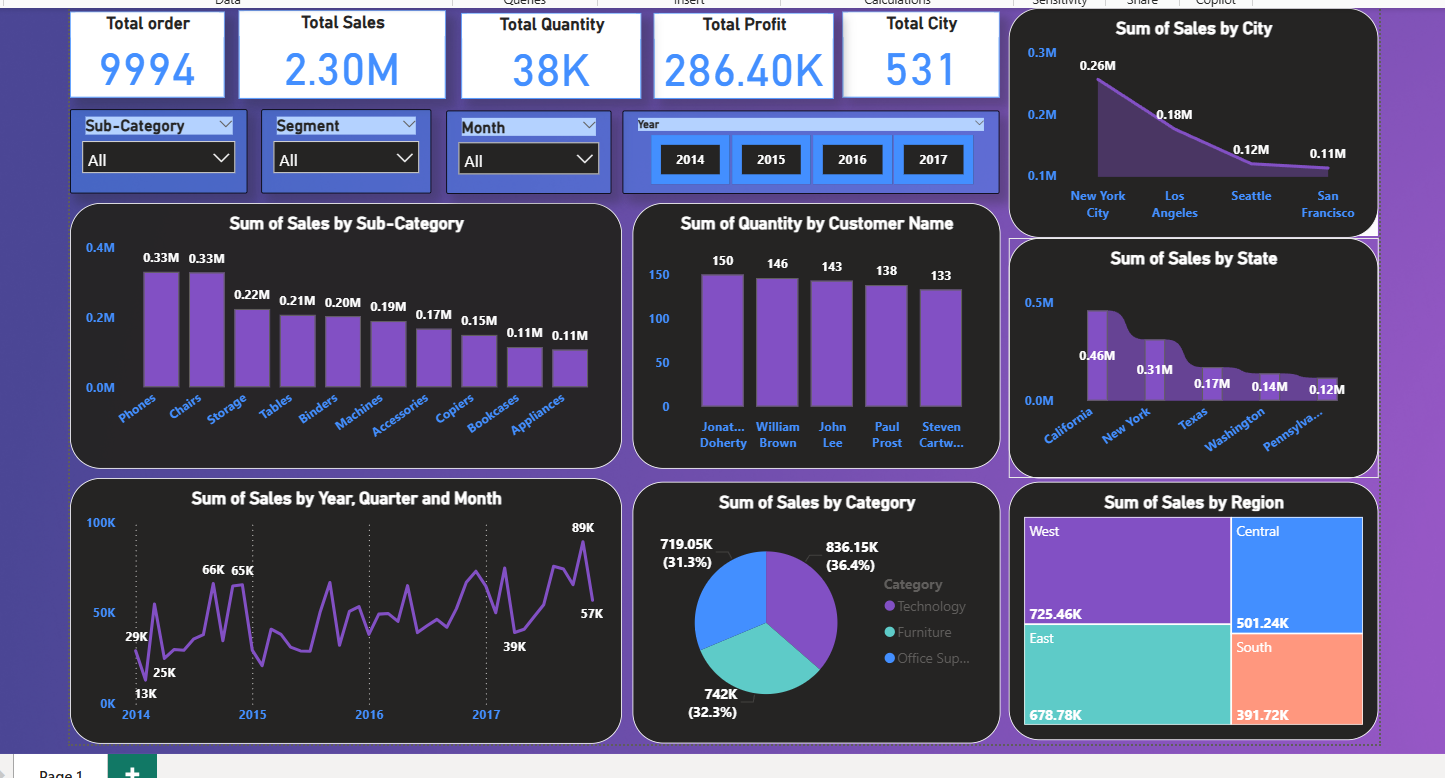

The page's visual inventory and layout, read from the dashboard file:
{"tool":"powerbi","page":{"name":"Page 1","canvas":[1280,720],"ordinal":0},"visuals":[{"type":"card","title":"Total order","fields":{"Values":["CountNonNull(Superstore_data(1).Order ID)"]},"box":[0,3.8,151.2,83.8],"z":0},{"type":"card","title":"Total City","fields":{"Values":["Count(Superstore_data(1).City)"]},"box":[756.2,3.8,153.8,83.8],"z":1000},{"type":"card","title":"Total Profit","fields":{"Values":["Sum(Superstore_data(1).Profit)"]},"box":[571.2,5,176.2,83.8],"z":2000},{"type":"card","title":"Total Sales","fields":{"Values":["Sum(Superstore_data(1).Sales)"]},"box":[165,2.5,202.5,86.2],"z":3000},{"type":"card","title":"Total Quantity","fields":{"Values":["Sum(Superstore_data(1).Quantity)"]},"box":[382.5,5,176.2,83.8],"z":4000},{"type":"slicer","fields":{"Values":["Superstore_data(1).Sub-Category"]},"box":[0,98.8,173.8,82.5],"z":5000},{"type":"slicer","fields":{"Values":["Superstore_data(1).Segment"]},"box":[187.5,98.8,166.2,82.5],"z":6000},{"type":"clusteredColumnChart","fields":{"Category":["Superstore_data(1).Sub-Category"],"Y":["Sum(Superstore_data(1).Sales)"]},"box":[0,191.2,540,260],"z":7000},{"type":"lineChart","fields":{"Category":["Superstore_data(1).Order Date.Variation.Date Hierarchy.Year","Superstore_data(1).Order Date.Variation.Date Hierarchy.Quarter","Superstore_data(1).Order Date.Variation.Date Hierarchy.Month","Superstore_data(1).Order Date.Variation.Date Hierarchy.Day"],"Y":["Sum(Superstore_data(1).Sales)"]},"box":[0,460,540,260],"z":8000},{"type":"slicer","fields":{"Values":["Superstore_data(1).Order Date.Variation.Date Hierarchy.Month"]},"box":[367.5,100,161.2,81.2],"z":9000},{"type":"slicer","fields":{"Values":["Superstore_data(1).Order Date.Variation.Date Hierarchy.Year"]},"box":[540,100,368.8,81.2],"z":10000},{"type":"pieChart","fields":{"Category":["Superstore_data(1).Category"],"Y":["Sum(Superstore_data(1).Sales)"]},"box":[550,463.8,360,256.2],"z":11000},{"type":"treemap","fields":{"Group":["Superstore_data(1).Region"],"Values":["Sum(Superstore_data(1).Sales)"]},"box":[918.8,463.8,361.2,252.5],"z":12000},{"type":"clusteredColumnChart","fields":{"Category":["Superstore_data(1).Customer Name"],"Y":["Sum(Superstore_data(1).Quantity)"]},"box":[550,191.2,360,260],"z":13000},{"type":"ribbonChart","fields":{"Category":["Superstore_data(1).State"],"Y":["Sum(Superstore_data(1).Sales)"]},"box":[918.8,225,361.2,235],"z":13001},{"type":"areaChart","fields":{"Category":["Superstore_data(1).City"],"Y":["Sum(Superstore_data(1).Sales)"]},"box":[918.8,0,361.2,225],"z":13002}]}

Visuals, with their boxes in screenshot pixels (x1, y1, x2, y2):
"Total order" card: 60,8,216,94
"Total City" card: 838,8,997,94
"Total Profit" card: 648,9,829,95
"Total Sales" card: 230,6,438,95
"Total Quantity" card: 454,9,635,95
slicer - Superstore_data(1).Sub-Category: 60,105,239,190
slicer - Superstore_data(1).Segment: 253,105,424,190
clusteredColumnChart - Superstore_data(1).Sub-Category x Sum(Superstore_data(1).Sales): 60,201,616,468
lineChart - Superstore_data(1).Order Date.Variation.Date Hierarchy.Year x Superstore_data(1).Order Date.Variation.Date Hierarchy.Quarter: 60,477,616,745
slicer - Superstore_data(1).Order Date.Variation.Date Hierarchy.Month: 438,107,604,190
slicer - Superstore_data(1).Order Date.Variation.Date Hierarchy.Year: 616,107,995,190
pieChart - Superstore_data(1).Category x Sum(Superstore_data(1).Sales): 626,481,997,745
treemap - Superstore_data(1).Region x Sum(Superstore_data(1).Sales): 1006,481,1377,741
clusteredColumnChart - Superstore_data(1).Customer Name x Sum(Superstore_data(1).Quantity): 626,201,997,468
ribbonChart - Superstore_data(1).State x Sum(Superstore_data(1).Sales): 1006,235,1377,477
areaChart - Superstore_data(1).City x Sum(Superstore_data(1).Sales): 1006,4,1377,235
